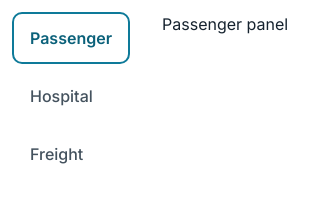
Scenario: Tabs › shows the first panel and moves with arrow keys, wrapping at the ends
Later steps or results of the test are not shown.
expect the panel reads "Passenger panel": met, box [162,14,288,34]
Click the tab "Passenger" at (71, 38), box [12,12,130,64]
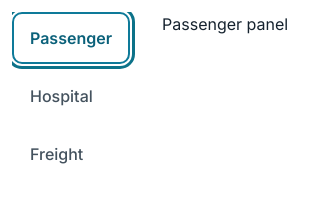
Press Arrowdown
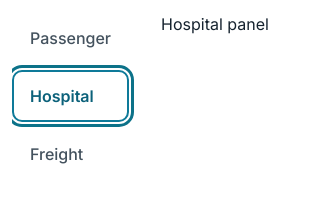
expect the panel reads "Hospital panel": met, box [161,14,269,34]
Press End
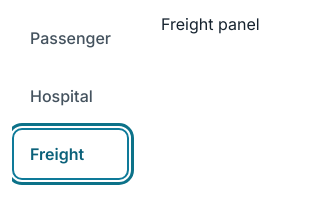
expect the tab "Freight" is selected: met, box [12,128,129,180]
